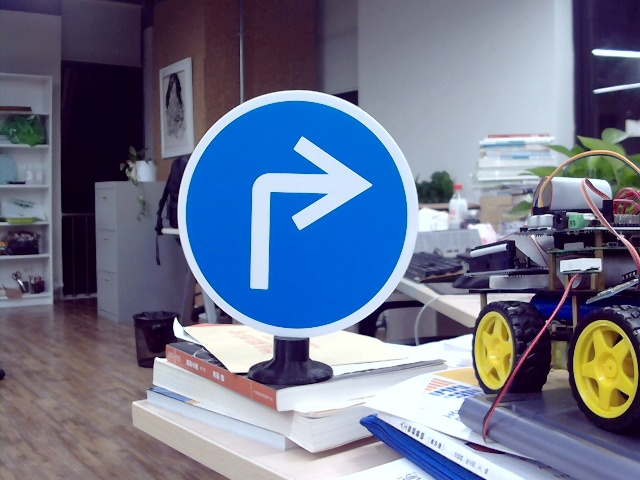turn_right: (235, 131, 371, 294)
